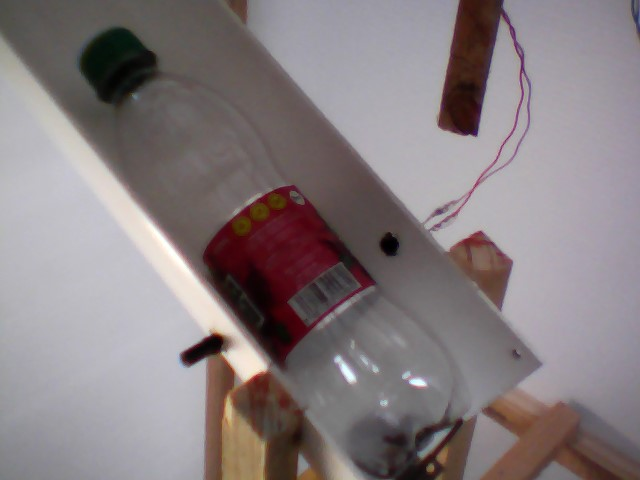plastico: (73, 16, 477, 480)
